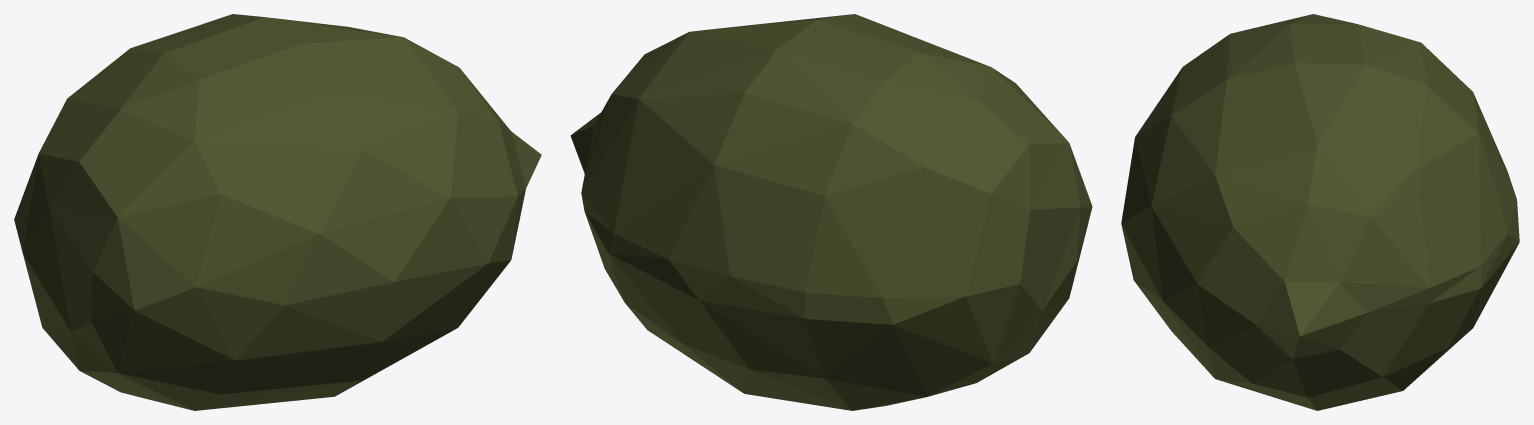
File: AlmondHull.obj
3 renders of one model, left to right at view 1: azimuth 30°, elevation 25°; view 2: azimuth 150°, elevation 25°; view 3: azimuth 270°, elevation 25°, orthographic. The views are drawn at different scales.
Parts seen in each view (by area): view 1: fruit; view 2: fruit; view 3: fruit.
Boxes of the visible parts, x1=… form: fruit: x1=14, y1=14, x2=541, y2=410; fruit: x1=570, y1=14, x2=1092, y2=410; fruit: x1=1121, y1=14, x2=1519, y2=410.
Bounding box in the file's own units: 0.965 × 0.6576 × 0.7323.
